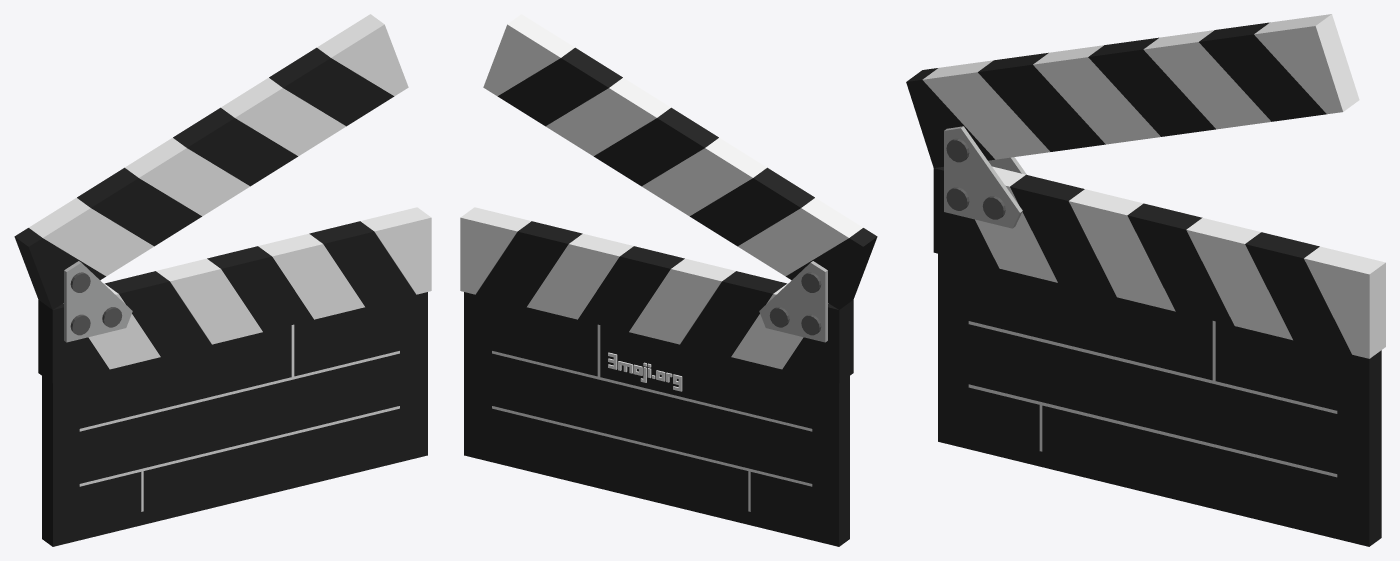
The model's file is clapper_board.gltf.
The picture shows the model from 3 angles, left to right: view 1: azimuth 30°, elevation 25°; view 2: azimuth 150°, elevation 25°; view 3: azimuth 330°, elevation 25°; orthographic projection. The views are drawn at different scales.
Visible parts, largest first — view 1: Cube.939; view 2: Cube.939; view 3: Cube.939.
Boxes of the visible parts, x1,y1,x2,y2 form: Cube.939: [14, 14, 431, 546]; Cube.939: [460, 14, 877, 546]; Cube.939: [906, 14, 1385, 546].
Size of the model in its own units: 2.27 by 2.39 by 0.2242.
Materials: 1 (1 with a texture image).
